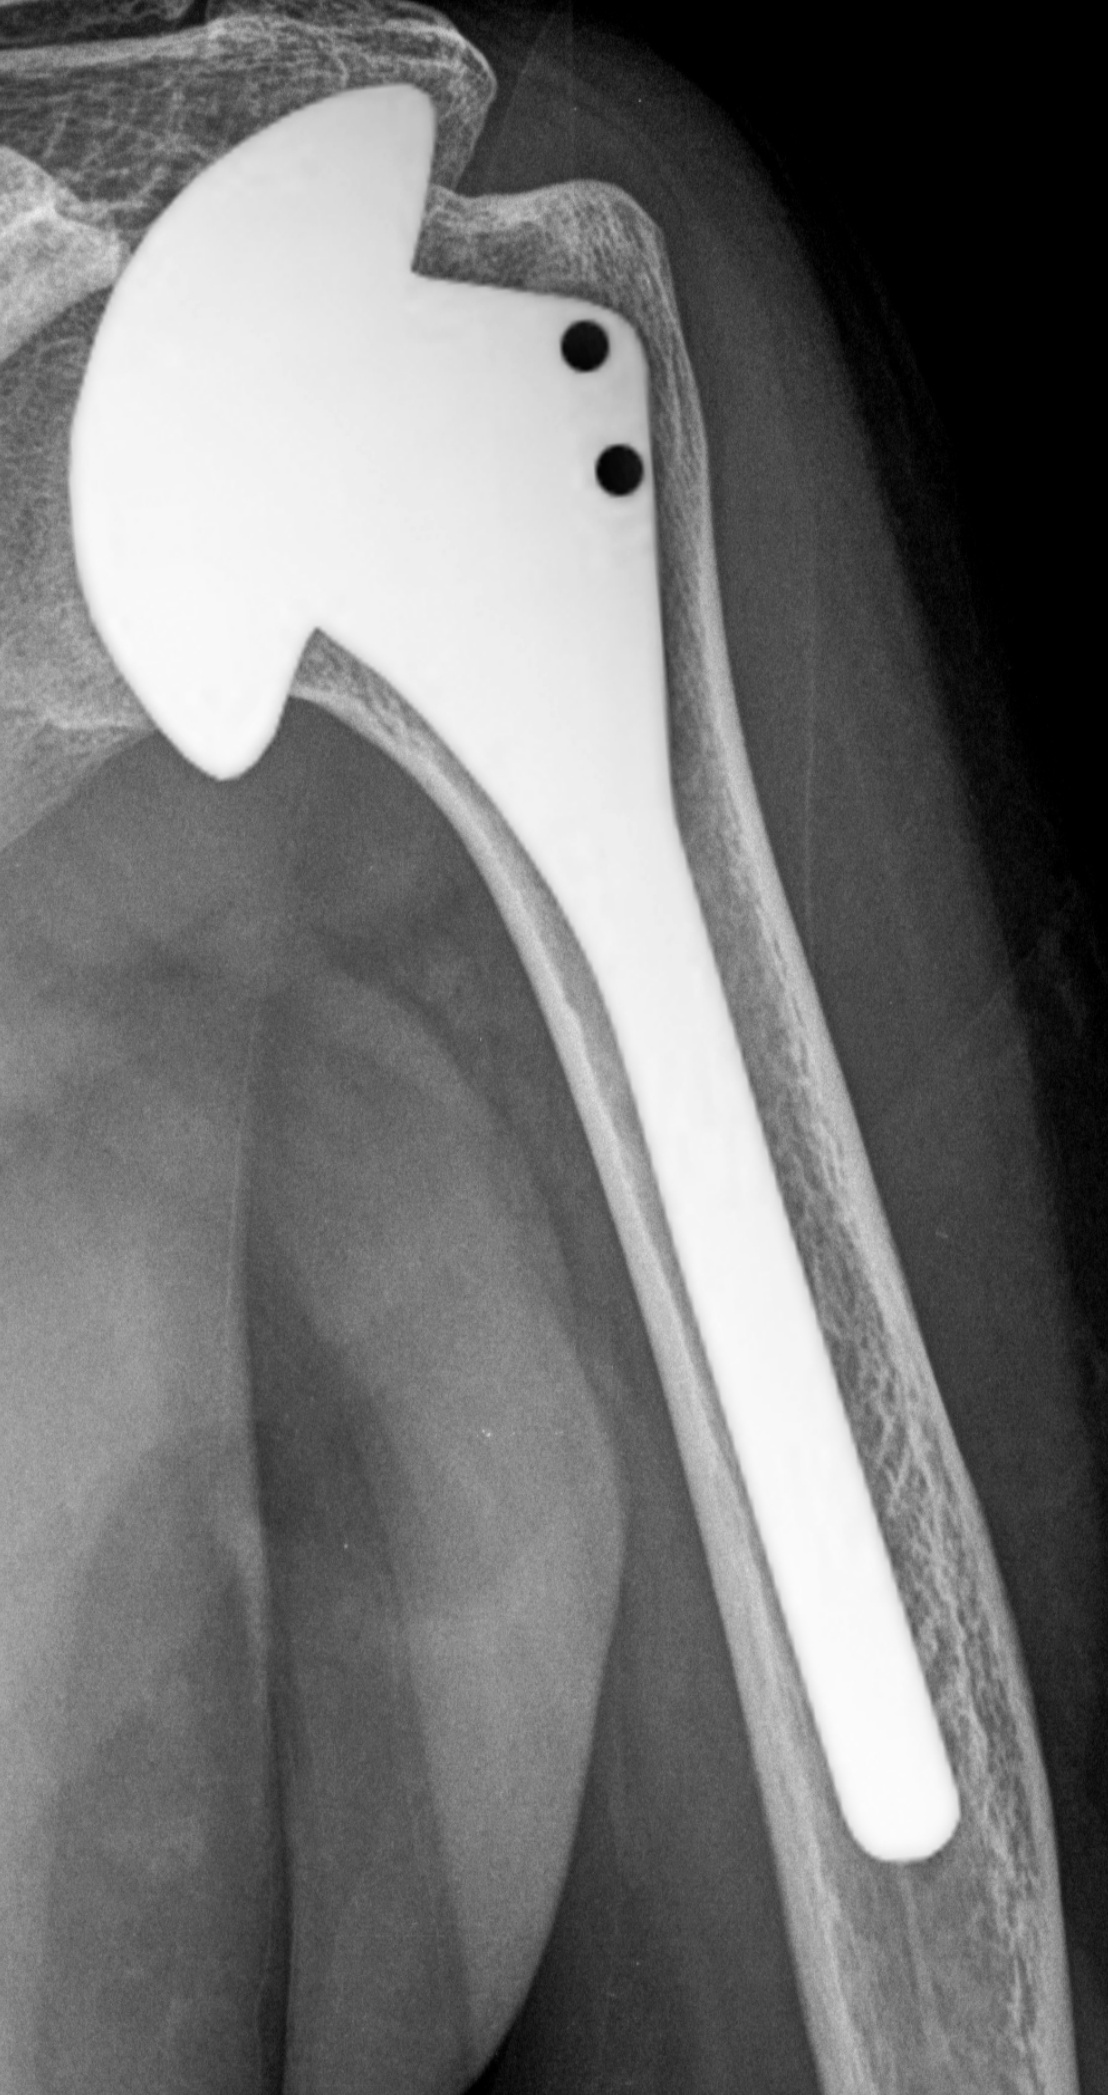Shoulder - Aequalishead - Tornier: (60, 71, 458, 801)
Shoulder - Aequalistail - Tornier: (222, 79, 717, 783)
